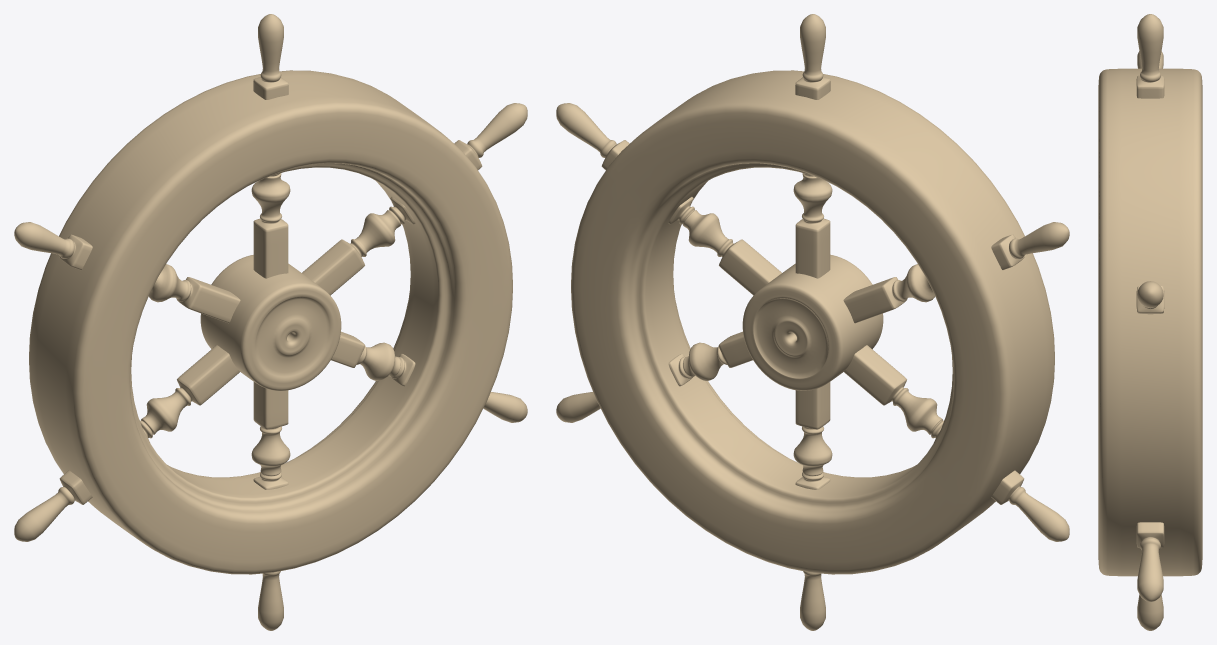
File: wheel.glb
The picture shows the model from 3 angles, left to right: view 1: azimuth 30°, elevation 25°; view 2: azimuth 150°, elevation 25°; view 3: azimuth 270°, elevation 25°; orthographic projection.
Parts seen in each view (by area): view 1: Wheel; view 2: Wheel; view 3: Wheel.
Boxes of the visible parts, x1,y1,x2,y2 form: Wheel: [14, 14, 527, 630]; Wheel: [556, 14, 1069, 630]; Wheel: [1098, 14, 1202, 630].
Bounding box in the file's own units: 42.71 × 49.2 × 7.56.
